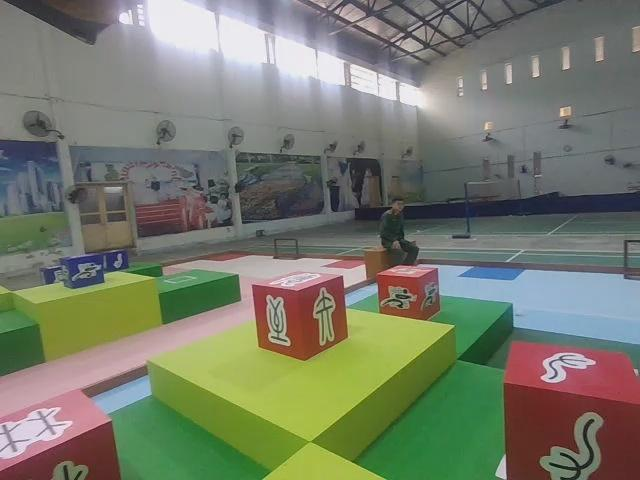R1: (375, 261, 442, 325)
R2 Fake: (250, 267, 350, 363)
R2 Real: (499, 335, 640, 480), (0, 384, 123, 480)
